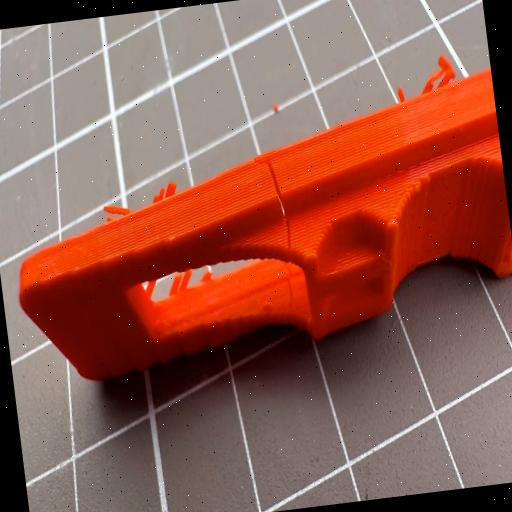cracks: (266, 161, 306, 310)
